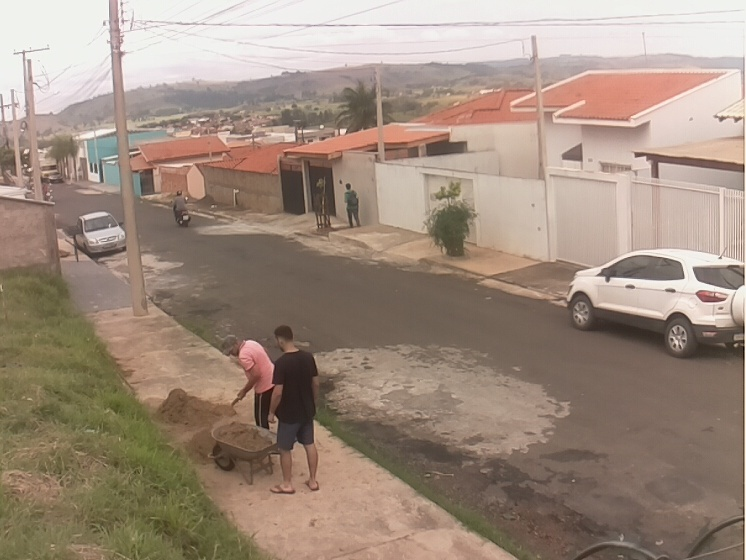person: (265, 323, 322, 495), (219, 333, 276, 430), (342, 181, 363, 230), (171, 189, 190, 216)
